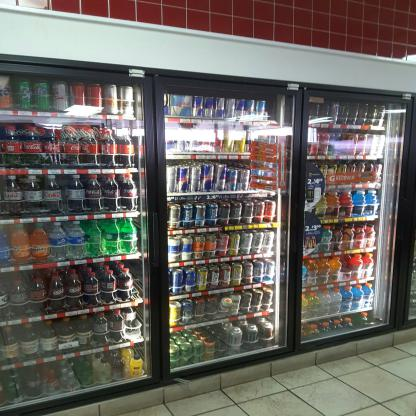Void: (126, 314, 141, 340), (132, 269, 143, 296)
